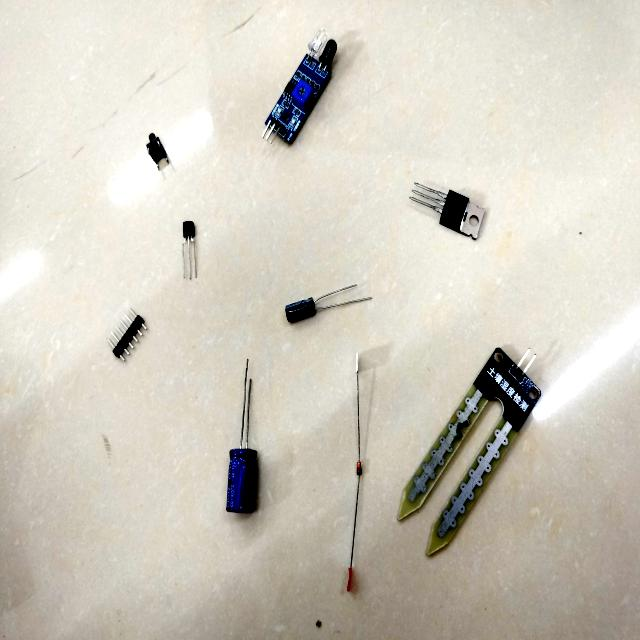capacitor: (227, 447, 271, 528), (285, 287, 352, 324)
